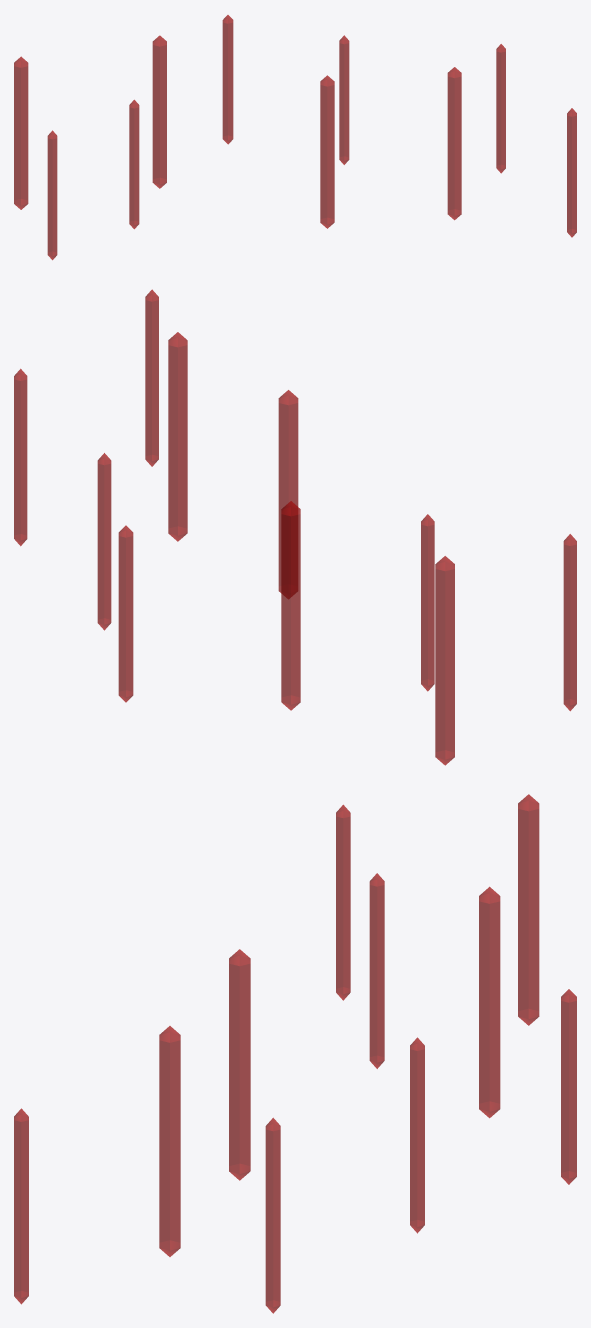
The model's file is SM_Env_Tree_Cluster_01_Collision.fbx.
The picture shows the model from 3 angles, top to bottom: view 1: azimuth 30°, elevation 25°; view 2: azimuth 150°, elevation 25°; view 3: azimuth 270°, elevation 25°; orthographic projection. The views are drawn at different scales.
Visible parts, largest first — view 1: SM_Env_Tree_Cluster_01_Collision; view 2: SM_Env_Tree_Cluster_01_Collision; view 3: SM_Env_Tree_Cluster_01_Collision.
Boxes of the visible parts, left/top/right/bottom form: SM_Env_Tree_Cluster_01_Collision: left=14, top=15, right=576, bottom=260; SM_Env_Tree_Cluster_01_Collision: left=14, top=289, right=576, bottom=765; SM_Env_Tree_Cluster_01_Collision: left=14, top=794, right=576, bottom=1313.
Bounding box in the file's own units: 1525 × 515 × 1133.
